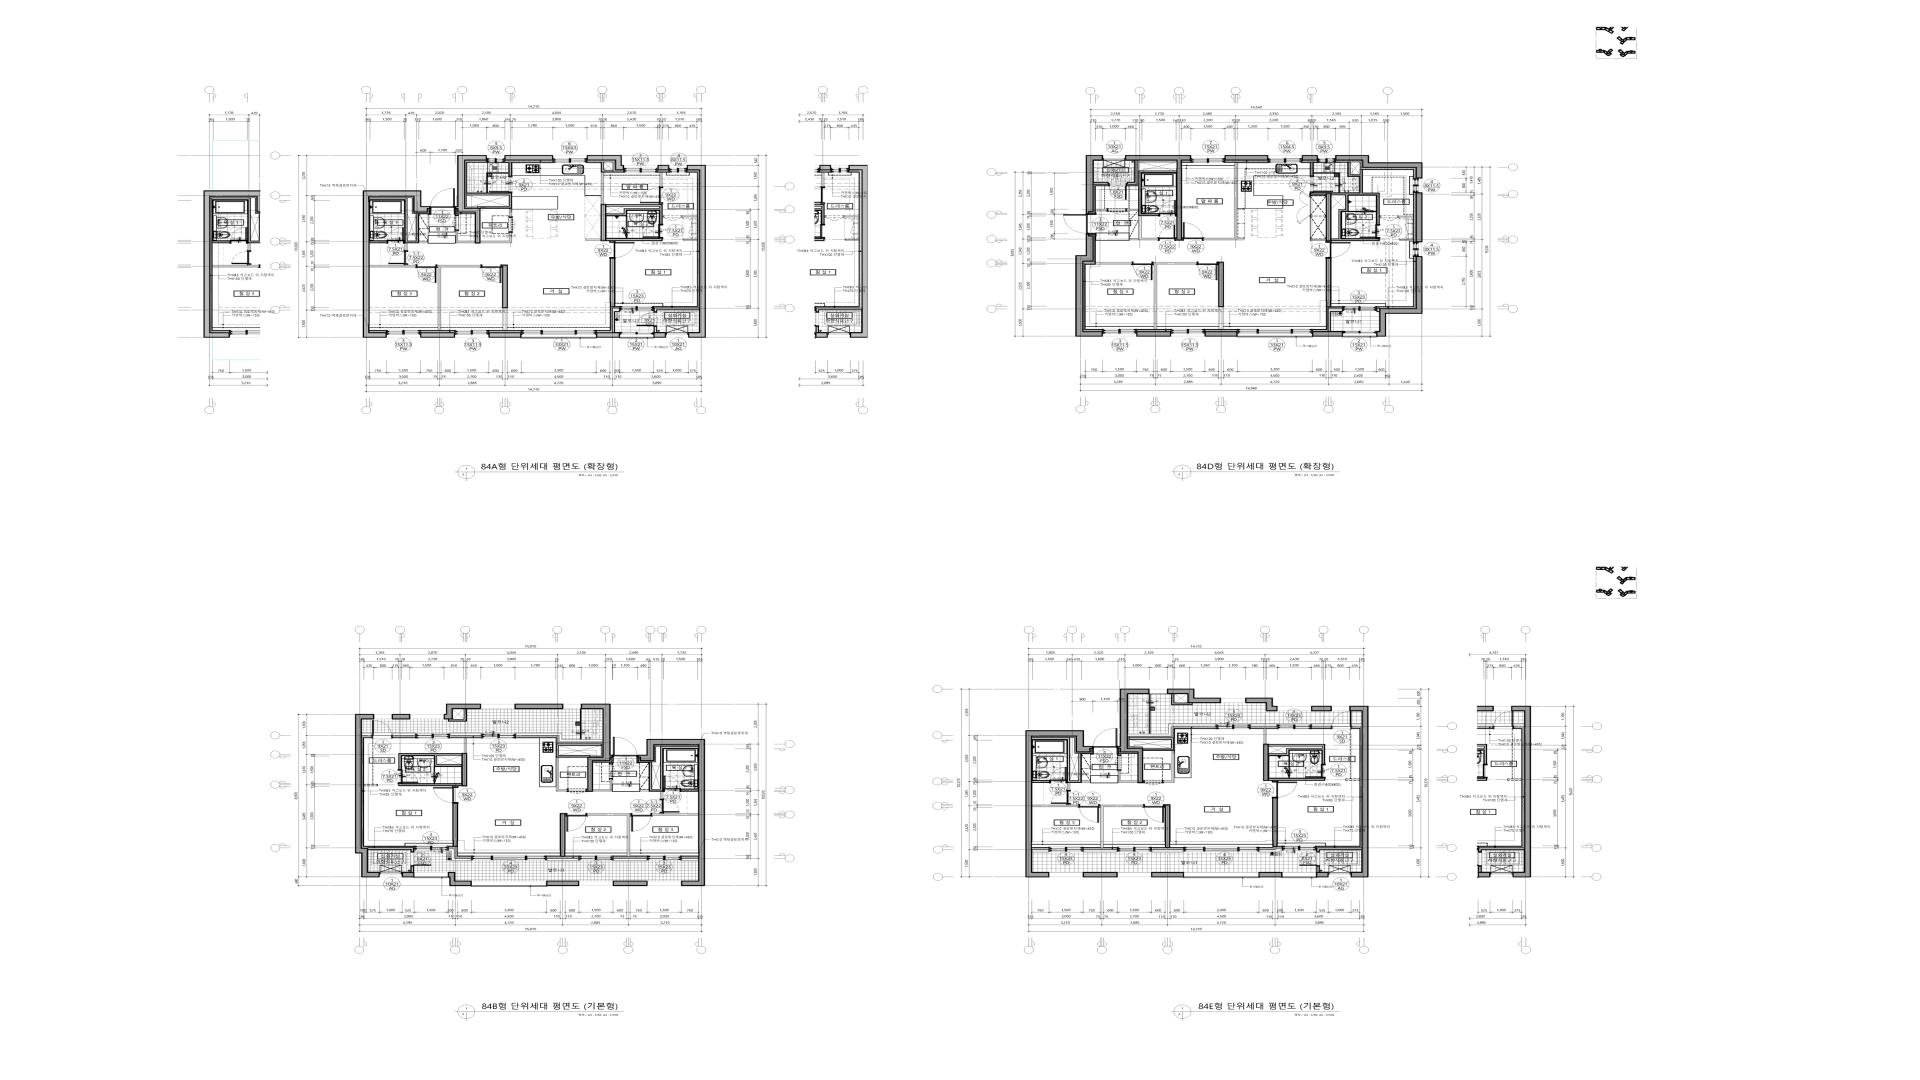door: (1092, 728, 1118, 754), (1063, 214, 1097, 233), (430, 189, 455, 215), (433, 786, 459, 804), (1271, 781, 1298, 799), (613, 737, 637, 757), (415, 264, 438, 284), (1325, 241, 1350, 258), (609, 241, 634, 258), (1197, 261, 1218, 281), (1133, 261, 1154, 281), (1182, 223, 1204, 241), (640, 187, 663, 204), (489, 175, 513, 193), (481, 265, 502, 284), (566, 814, 587, 832), (630, 814, 651, 832), (1079, 804, 1100, 823), (1143, 804, 1164, 823), (372, 720, 393, 738), (1309, 177, 1333, 193), (1332, 711, 1352, 729), (1109, 183, 1127, 200), (397, 769, 418, 783), (1360, 224, 1381, 239), (388, 251, 409, 265), (1299, 852, 1320, 866), (386, 227, 404, 244), (663, 775, 680, 793), (1158, 225, 1176, 241), (659, 799, 679, 814), (1051, 790, 1071, 804), (1305, 764, 1325, 778), (642, 224, 663, 237), (1159, 200, 1176, 216), (1050, 767, 1067, 783), (1379, 215, 1399, 222), (663, 215, 682, 222), (509, 216, 516, 232), (567, 789, 587, 794), (1143, 781, 1163, 786), (1108, 208, 1126, 214)
wall: (637, 738, 705, 886), (363, 190, 430, 338), (1026, 731, 1092, 878), (1125, 156, 1191, 241), (355, 713, 380, 877), (1332, 162, 1379, 241), (1377, 256, 1423, 336), (1126, 170, 1176, 240), (1349, 705, 1369, 878), (687, 165, 705, 338), (1204, 162, 1245, 240), (369, 198, 427, 251), (1033, 737, 1091, 790), (1118, 688, 1150, 783), (1154, 262, 1197, 330), (580, 704, 613, 793), (455, 156, 487, 244), (438, 265, 480, 330), (1076, 233, 1102, 336), (640, 746, 699, 791), (555, 744, 601, 791), (1336, 156, 1423, 178), (587, 814, 630, 856), (1101, 804, 1143, 848), (607, 204, 663, 224), (1269, 744, 1325, 764), (1085, 156, 1104, 214), (467, 193, 512, 216), (1127, 724, 1216, 736), (398, 753, 462, 769), (516, 733, 603, 742), (1167, 688, 1221, 703), (1129, 737, 1174, 750), (443, 704, 481, 719), (587, 156, 624, 170), (601, 162, 613, 204), (1245, 698, 1278, 711), (1163, 750, 1175, 783), (448, 872, 472, 886), (1328, 307, 1342, 331), (480, 232, 512, 243), (1416, 193, 1423, 243), (609, 258, 616, 307), (1325, 193, 1332, 241), (1325, 258, 1332, 307), (559, 814, 566, 857), (1164, 804, 1171, 848), (1171, 694, 1193, 705), (448, 849, 471, 861), (1118, 770, 1138, 783), (514, 704, 563, 709), (505, 156, 553, 161), (1273, 799, 1278, 847), (600, 204, 607, 241), (654, 307, 699, 313), (1218, 262, 1224, 307), (455, 231, 475, 243), (502, 265, 508, 309), (1225, 156, 1269, 161), (452, 804, 458, 847), (448, 709, 467, 721), (593, 779, 612, 791), (1127, 161, 1137, 185), (607, 237, 662, 241), (1151, 872, 1184, 878), (612, 307, 620, 332), (1263, 744, 1269, 781), (1083, 872, 1118, 877), (368, 848, 414, 852), (1316, 848, 1362, 852), (462, 753, 467, 787), (613, 881, 647, 886), (421, 332, 455, 338), (1137, 331, 1171, 336), (546, 881, 579, 886), (488, 332, 521, 338), (1205, 331, 1238, 336), (398, 783, 462, 786), (1258, 872, 1283, 878), (1312, 331, 1342, 336), (1269, 778, 1325, 781), (651, 814, 699, 816), (596, 332, 620, 338), (392, 713, 410, 720), (369, 265, 415, 268), (1033, 804, 1079, 807), (1218, 307, 1224, 330), (502, 309, 508, 330), (1311, 705, 1332, 711), (1096, 262, 1131, 265), (613, 858, 647, 861), (1316, 872, 1329, 878), (1151, 849, 1184, 852), (450, 733, 481, 736), (1302, 156, 1317, 161), (547, 858, 579, 861), (1250, 724, 1278, 727), (369, 240, 386, 244), (402, 872, 414, 877), (654, 332, 666, 338), (393, 733, 415, 736), (1259, 849, 1282, 852), (1263, 729, 1267, 744), (658, 165, 669, 170), (1312, 724, 1332, 727), (680, 789, 699, 791), (1033, 781, 1050, 783), (1084, 851, 1117, 852), (682, 858, 698, 861), (1093, 182, 1109, 185), (1033, 849, 1048, 852), (1311, 239, 1325, 241), (659, 173, 662, 187), (683, 239, 698, 241), (585, 239, 600, 241), (1311, 193, 1325, 195), (1311, 162, 1313, 177), (509, 162, 512, 175), (361, 733, 372, 736), (1352, 724, 1362, 727), (410, 866, 414, 872), (682, 216, 698, 218), (661, 791, 663, 799), (1316, 866, 1320, 872), (1399, 216, 1414, 218), (1399, 240, 1414, 241), (1096, 210, 1108, 211), (1377, 307, 1379, 313), (654, 327, 657, 332), (1118, 754, 1121, 756), (609, 762, 612, 764)
window: (521, 330, 596, 339), (1238, 328, 1312, 338), (472, 881, 546, 887), (471, 856, 547, 861), (1184, 847, 1259, 852), (1184, 873, 1258, 878), (386, 330, 421, 338), (624, 165, 658, 173), (553, 156, 587, 164), (1191, 156, 1225, 164), (1171, 328, 1205, 336), (1102, 328, 1137, 336), (455, 330, 488, 338), (1269, 156, 1302, 164), (620, 332, 654, 339), (1342, 331, 1377, 338), (1048, 847, 1084, 852), (579, 856, 613, 861), (647, 856, 682, 861), (1342, 306, 1377, 311), (620, 306, 654, 311), (415, 733, 450, 738), (481, 733, 516, 738), (414, 845, 448, 851), (414, 873, 448, 878), (579, 881, 613, 886), (1216, 724, 1250, 729), (1117, 847, 1151, 852), (1278, 724, 1312, 729), (1282, 845, 1316, 851), (647, 881, 680, 886), (1283, 873, 1316, 878), (669, 165, 687, 173), (487, 156, 505, 164), (1317, 156, 1336, 164), (1412, 178, 1422, 193), (1278, 707, 1311, 711), (1118, 873, 1151, 877), (1050, 873, 1083, 877), (410, 715, 443, 719), (481, 704, 514, 708), (1412, 243, 1422, 256), (666, 332, 688, 338), (380, 872, 402, 877), (1104, 156, 1125, 161), (1329, 872, 1350, 877), (1221, 699, 1245, 703), (1150, 690, 1167, 694), (375, 715, 392, 719), (563, 704, 580, 708), (1332, 707, 1349, 711)
